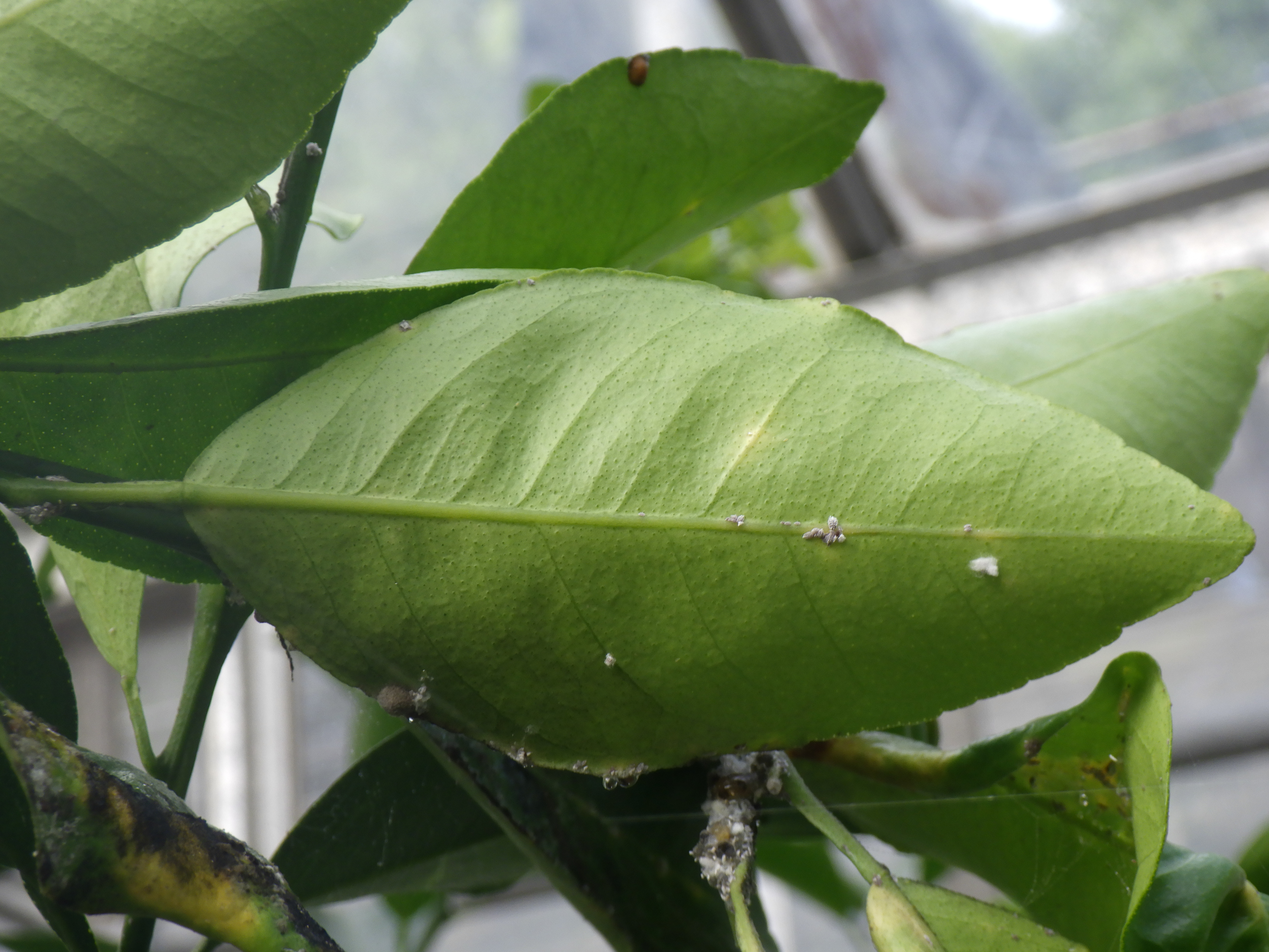Scale_Insect: (627, 54, 650, 86)
